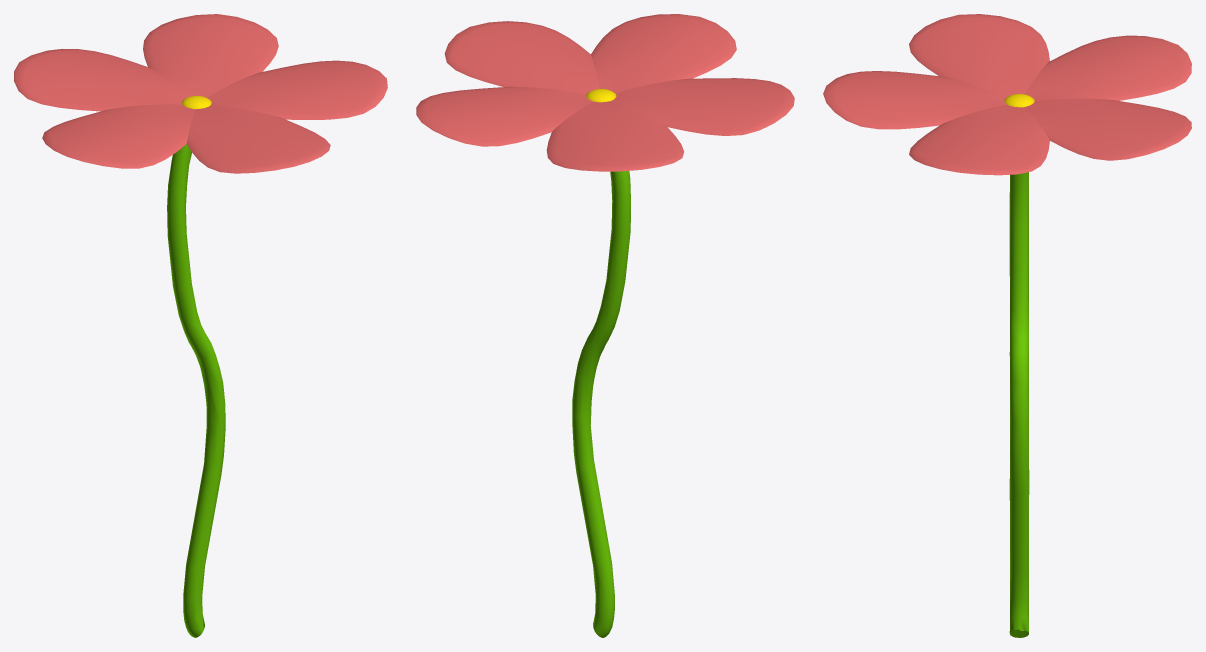
Rendered from flower.fbx.
3 renders of one model, left to right at view 1: azimuth 30°, elevation 25°; view 2: azimuth 150°, elevation 25°; view 3: azimuth 270°, elevation 25°, orthographic.
Visible parts, largest first — view 1: Sweep; view 2: Sweep; view 3: Sweep.
Part boxes in pixels (left/top/right/bottom): Sweep: left=14, top=14, right=387, bottom=637; Sweep: left=416, top=14, right=794, bottom=637; Sweep: left=823, top=14, right=1191, bottom=637.
Bounding box in the file's own units: 898 × 1430 × 872.
